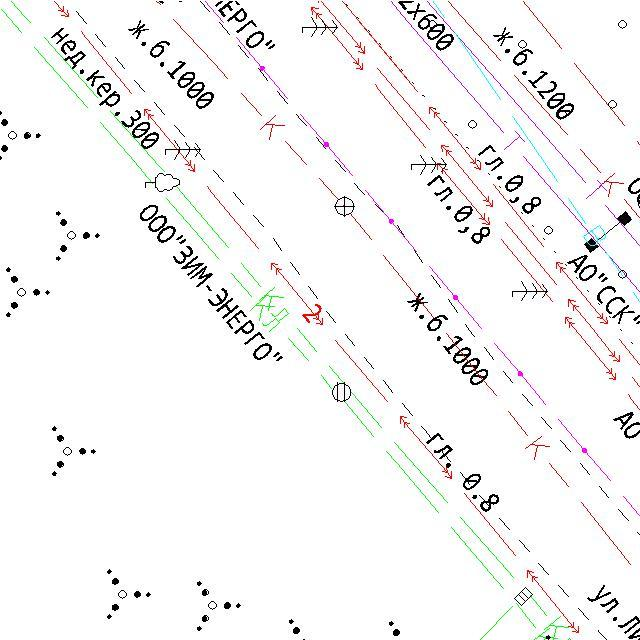bushes: (49, 424, 100, 479), (2, 265, 52, 320), (52, 210, 102, 262)
tree: (162, 138, 202, 162), (409, 152, 449, 176), (300, 16, 340, 39), (510, 279, 550, 302), (143, 171, 182, 194)
well: (329, 380, 354, 405), (332, 194, 357, 218)
